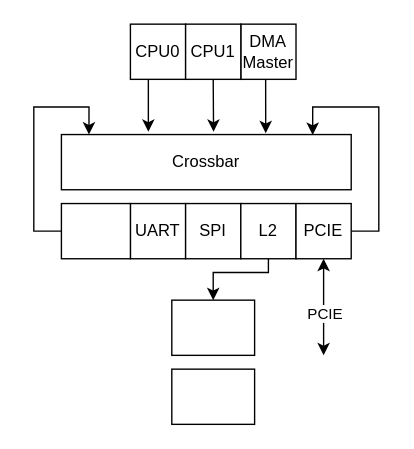
This 414x449 diagram has some shape labels left out. The shapes that lost their labels are listed below. From the top down, each one's centre as x and y in pixels, then its label:
At [95,230]: "Ethernet MAC".
At [212,327]: "SDRAM Controller".
At [212,396]: "SDRAM".
